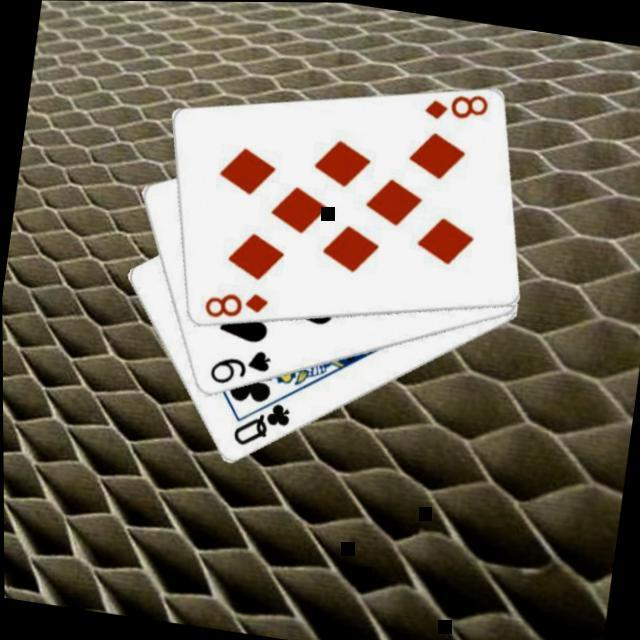8D: (198, 282, 270, 327), (418, 84, 492, 127)
9S: (202, 339, 274, 392)
QC: (226, 394, 294, 454)
